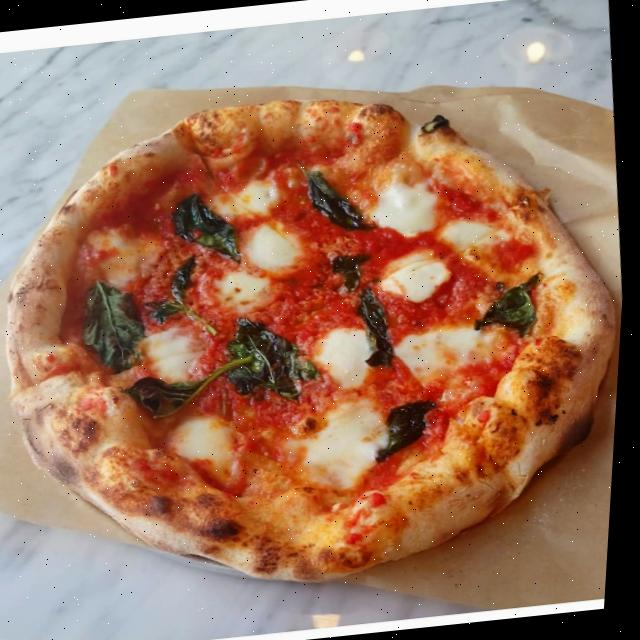basil: (116, 348, 269, 426), (221, 308, 338, 406), (73, 262, 161, 379), (144, 248, 228, 348), (293, 153, 381, 240), (165, 186, 250, 268), (471, 269, 552, 343), (349, 284, 409, 376), (373, 396, 449, 462), (325, 248, 375, 298)
pizza: (0, 67, 637, 611)
